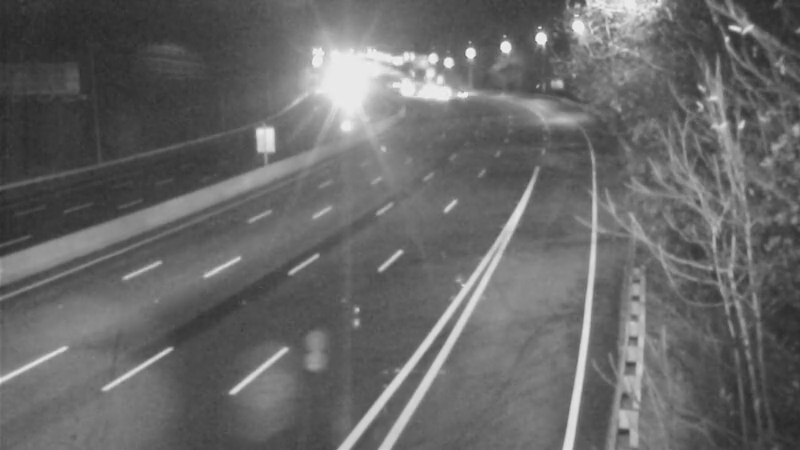vehicle: (381, 63, 431, 113), (406, 64, 456, 114), (433, 67, 483, 117)
